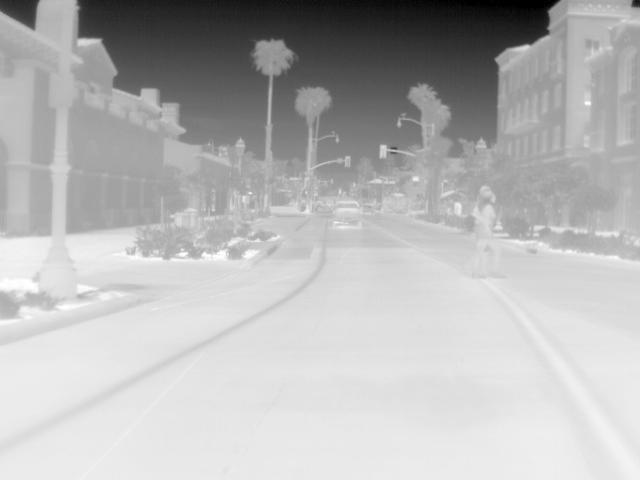car: (330, 200, 364, 228)
person: (475, 190, 504, 276)
